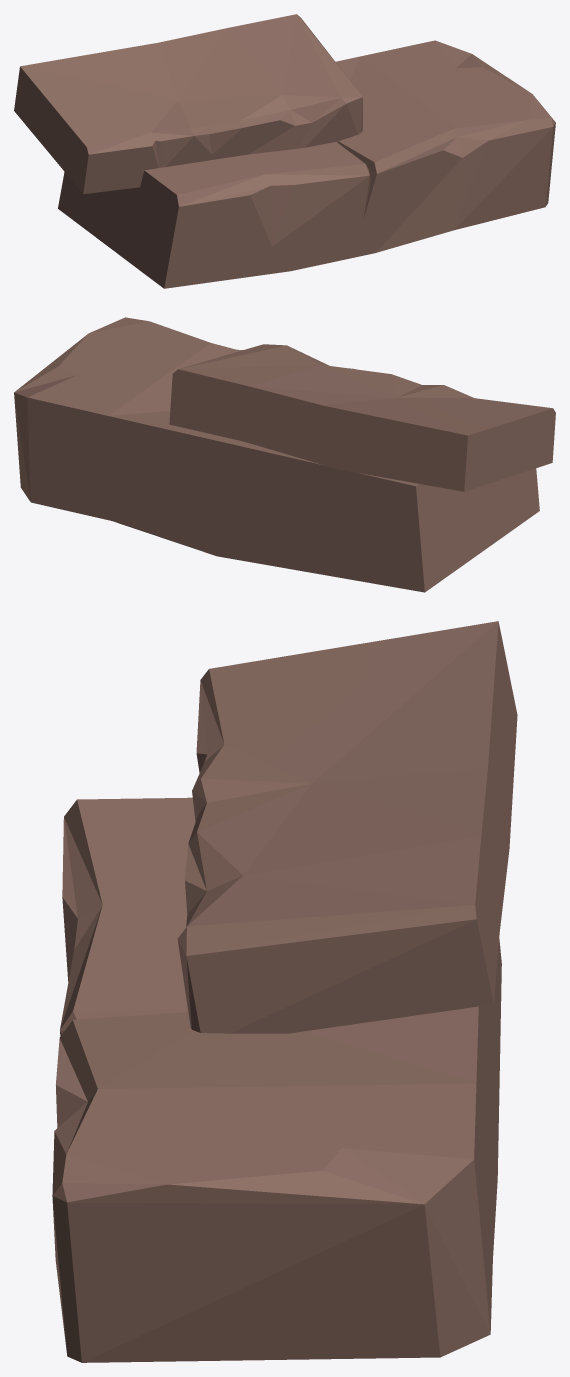
File: rock_004.fbx
3 views of the same model, one above another, from view 1: azimuth 30°, elevation 25°; view 2: azimuth 150°, elevation 25°; view 3: azimuth 270°, elevation 25° (orthographic). The views are drawn at different scales.
Parts seen in each view (by area): view 1: rock.004; view 2: rock.004; view 3: rock.004.
Boxes of the visible parts, x1,y1,x2,y2 form: rock.004: (14,14,555,288); rock.004: (14,317,555,592); rock.004: (52,621,517,1362).
Bounding box in the file's own units: 3311 × 1220 × 1513.
1 material, 1 textured.
